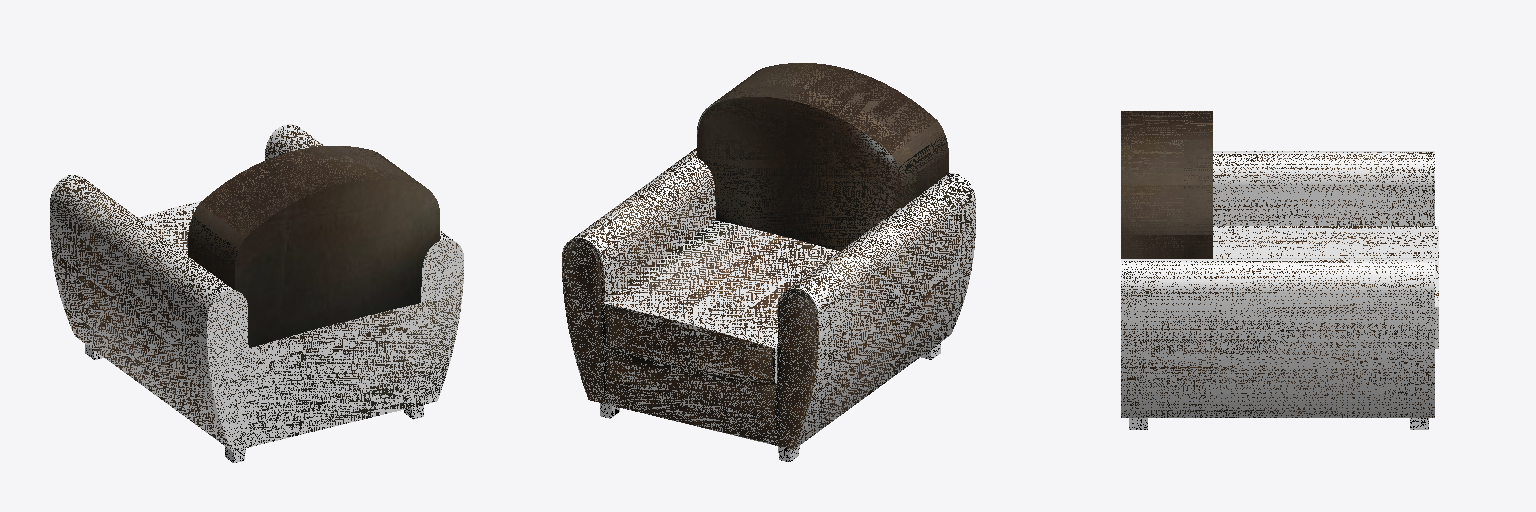
3 renders of one model, left to right at view 1: azimuth 30°, elevation 25°; view 2: azimuth 150°, elevation 25°; view 3: azimuth 270°, elevation 25°, orthographic.
Parts seen in each view (by area): view 1: mesh1_mesh1-geometry, mesh2_mesh2-geometry; view 2: mesh1_mesh1-geometry, mesh2_mesh2-geometry; view 3: mesh1_mesh1-geometry, mesh2_mesh2-geometry.
Boxes of the visible parts, box(x1,y1,x2,y2) form: mesh1_mesh1-geometry: box(50, 124, 463, 462); mesh2_mesh2-geometry: box(188, 146, 439, 347); mesh1_mesh1-geometry: box(562, 148, 975, 461); mesh2_mesh2-geometry: box(697, 63, 948, 250); mesh1_mesh1-geometry: box(1121, 151, 1438, 429); mesh2_mesh2-geometry: box(1121, 111, 1212, 258).
Bounding box in the file's own units: 0.5707 × 0.5459 × 0.6134.
Materials: 6 (4 with a texture image).